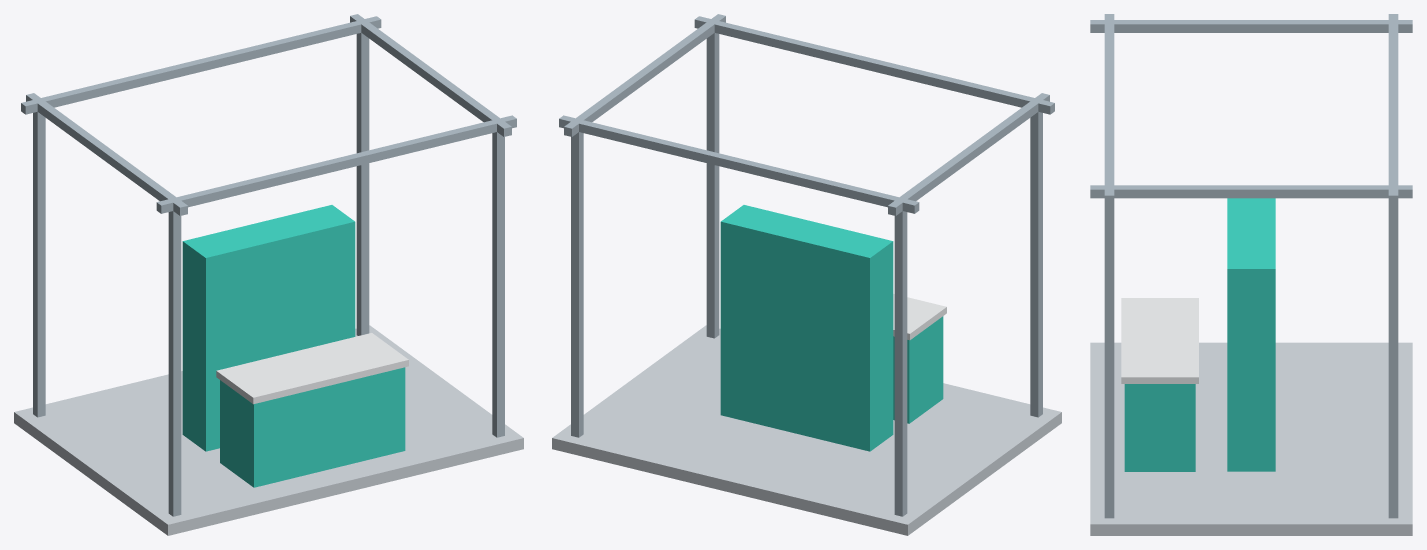
The picture shows the model from 3 angles, left to right: view 1: azimuth 30°, elevation 25°; view 2: azimuth 150°, elevation 25°; view 3: azimuth 270°, elevation 25°; orthographic projection. The views are drawn at different scales.
Visible parts, largest first — view 1: Exhibition Booth Concept; view 2: Exhibition Booth Concept; view 3: Exhibition Booth Concept.
Boxes of the visible parts, <box> form: Exhibition Booth Concept: <box>14,14,523,535</box>; Exhibition Booth Concept: <box>552,14,1061,535</box>; Exhibition Booth Concept: <box>1090,14,1412,535</box>.
Size of the model in its own units: 4 by 3.49 by 3.
